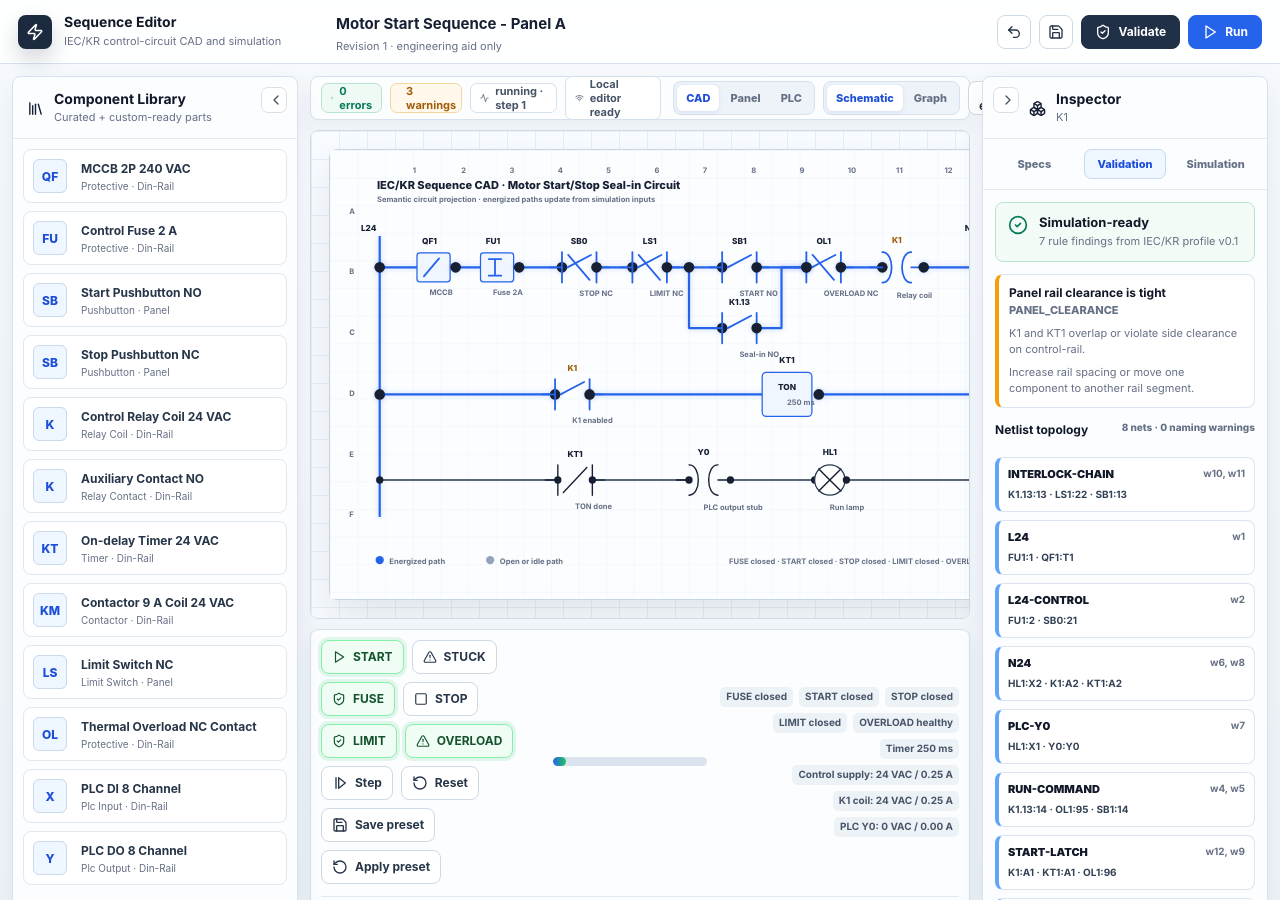
Test: Sequence Editor app › lets the operator trip OL1 and de-energizes the run command
What coordinates should you click on to do the following:
click the button "Reset"
I would click on:
 (440, 783)
Its box is [401,766,479,800].
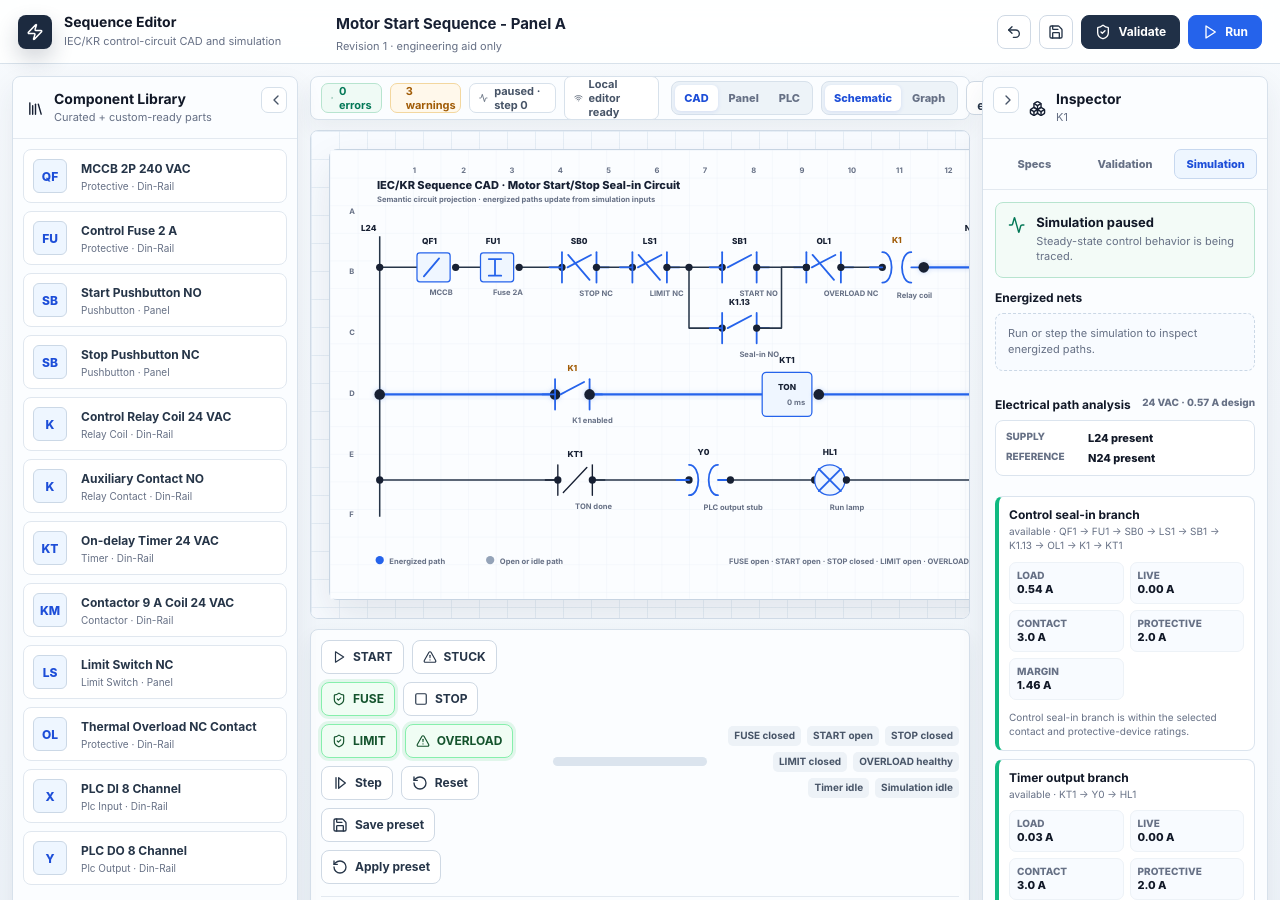
What coordinates should you click on to do the following:
click the button "START"
I would click on:
 (362, 657)
Its box is [321,640,404,674].
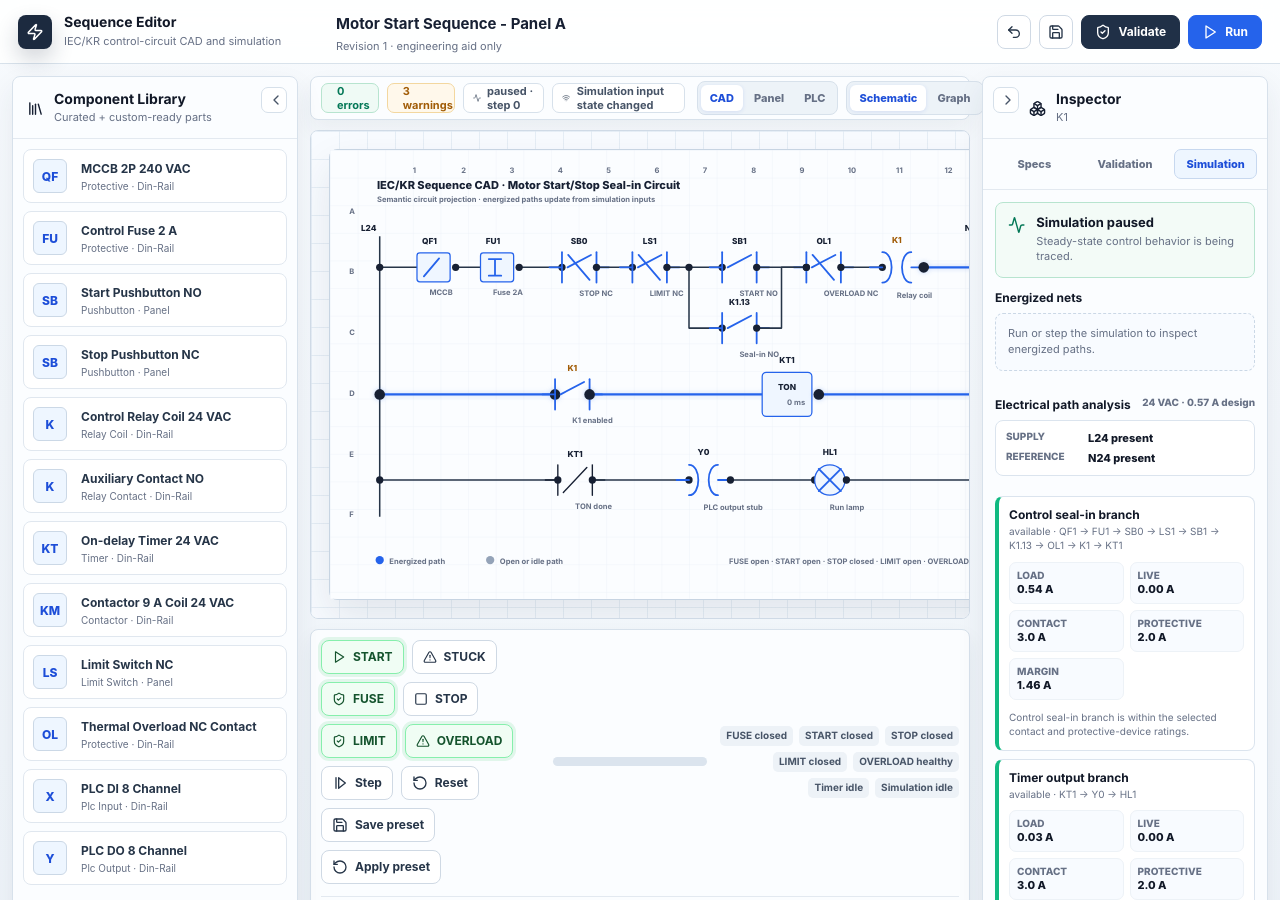
What coordinates should you click on to do the following:
click the button "Step"
I would click on:
 (357, 783)
Its box is [321,766,393,800].
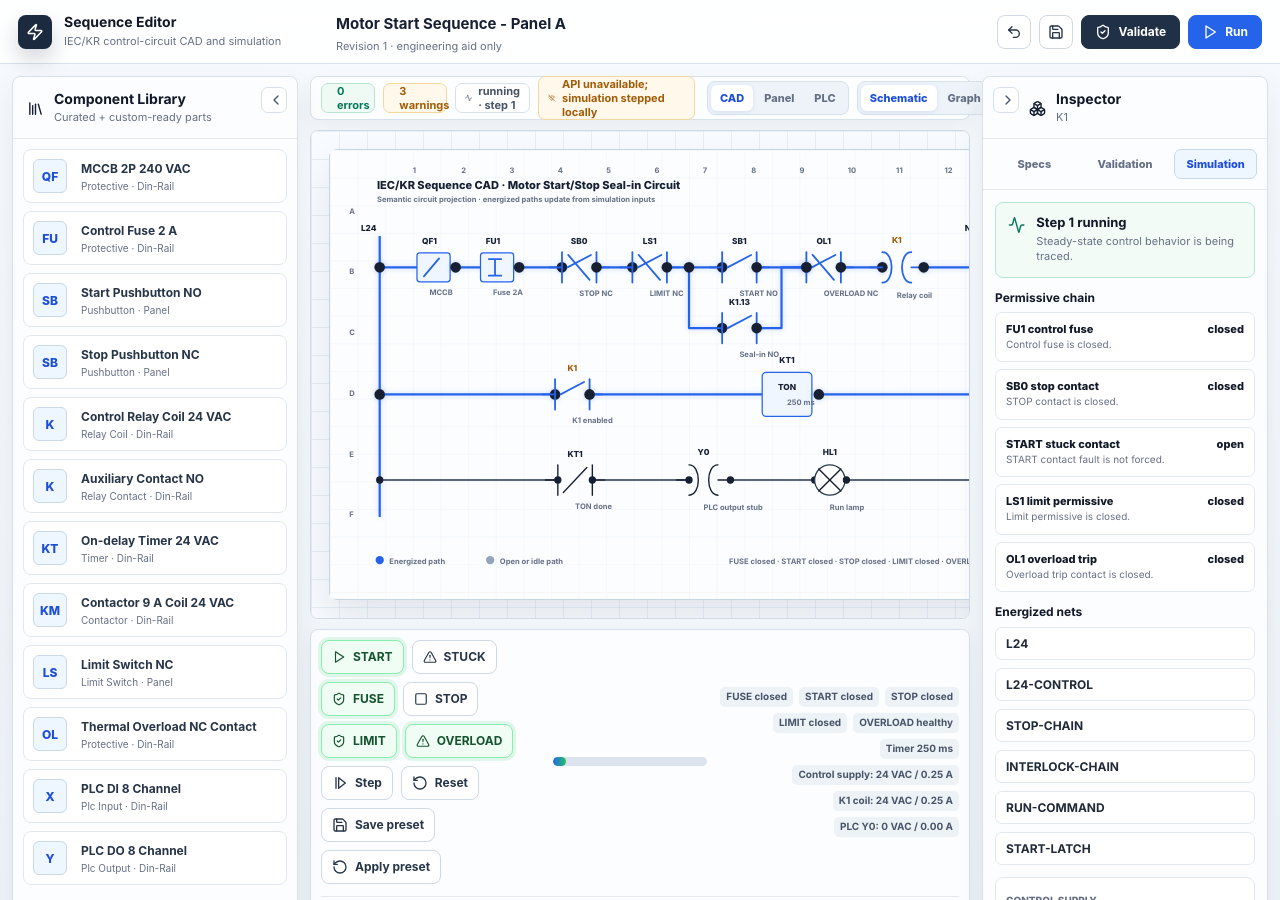
Expected: the text "OVERLOAD healthy" is shown, [853,713,959,733]
Result: the text "Step 1 running" is shown at [1036,215,1127,231]
Result: the text "K1 coil: 24 VAC / 0.25 A" is shown at [833,791,959,811]
What coordinates should you click on to do the following:
click the button "OVERLOAD"
I would click on:
 (459, 741)
Its box is [405,724,513,758].
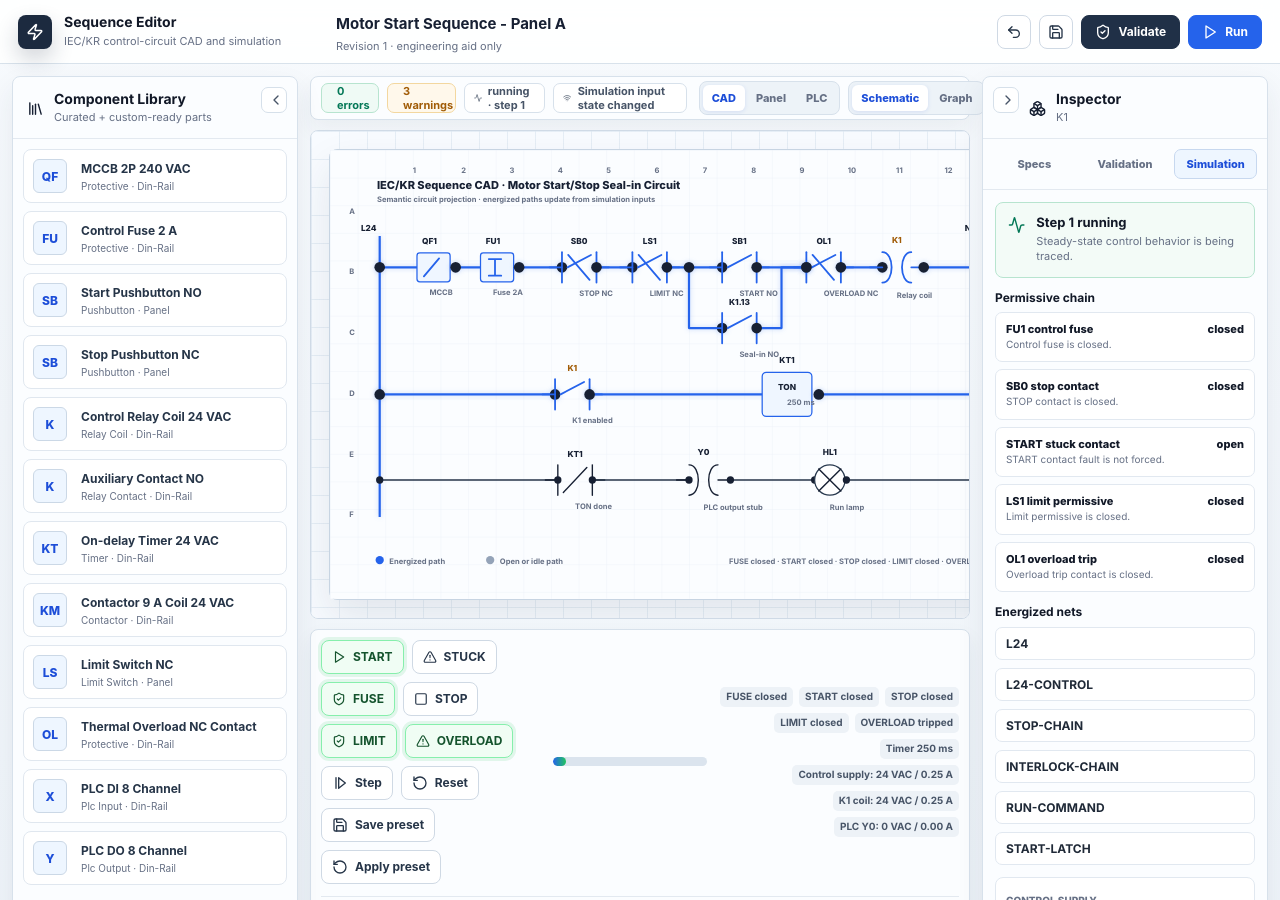
What coordinates should you click on to do the following:
click the button "Step"
I would click on:
 (357, 783)
Its box is [321,766,393,800].
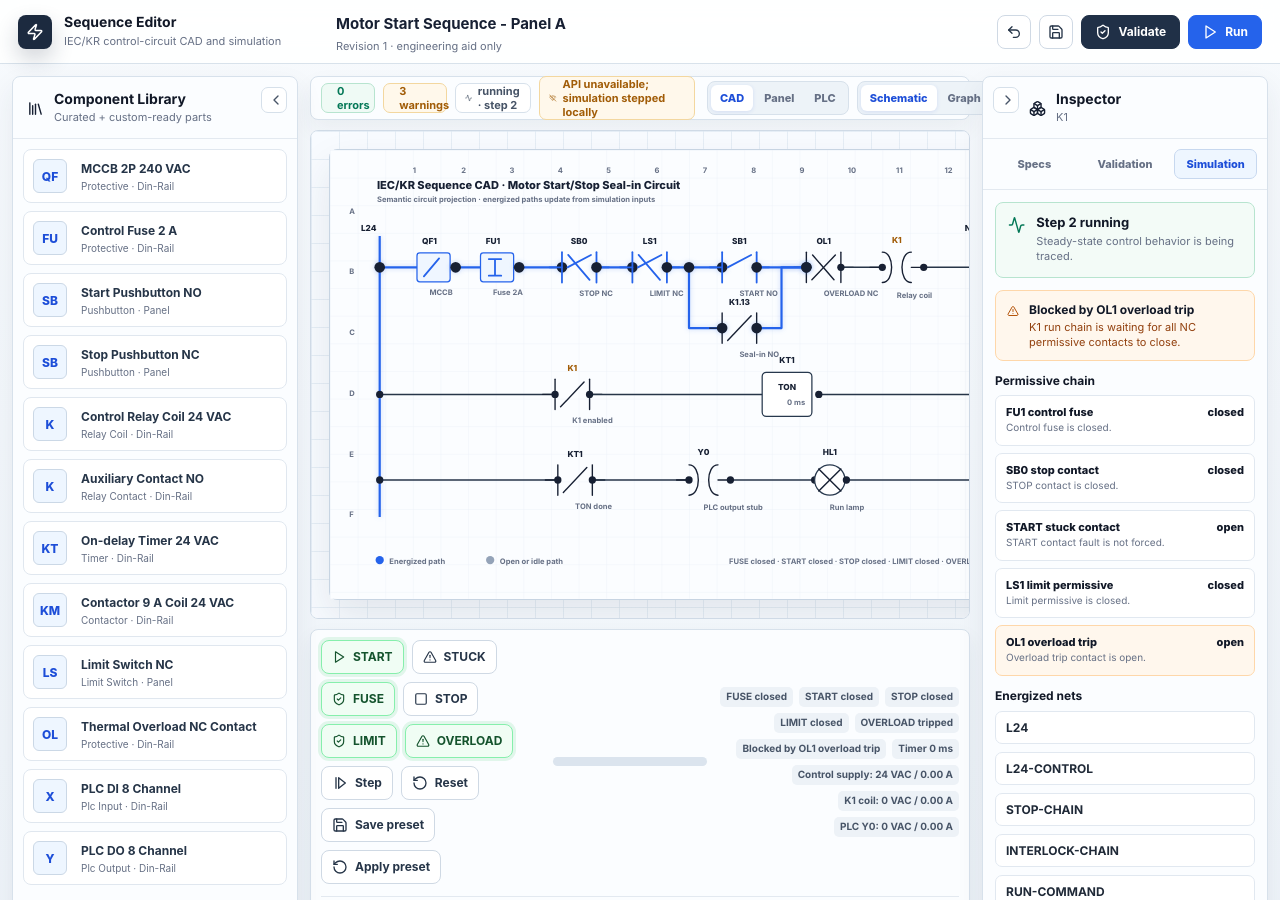
Result: the text "OVERLOAD tripped" is shown at [854,713,959,733]
Result: the text "Step 2 running" is shown at [1036,215,1129,231]
Result: the 2nd text "Blocked by OL1 overload trip" is shown at [736,739,886,759]
